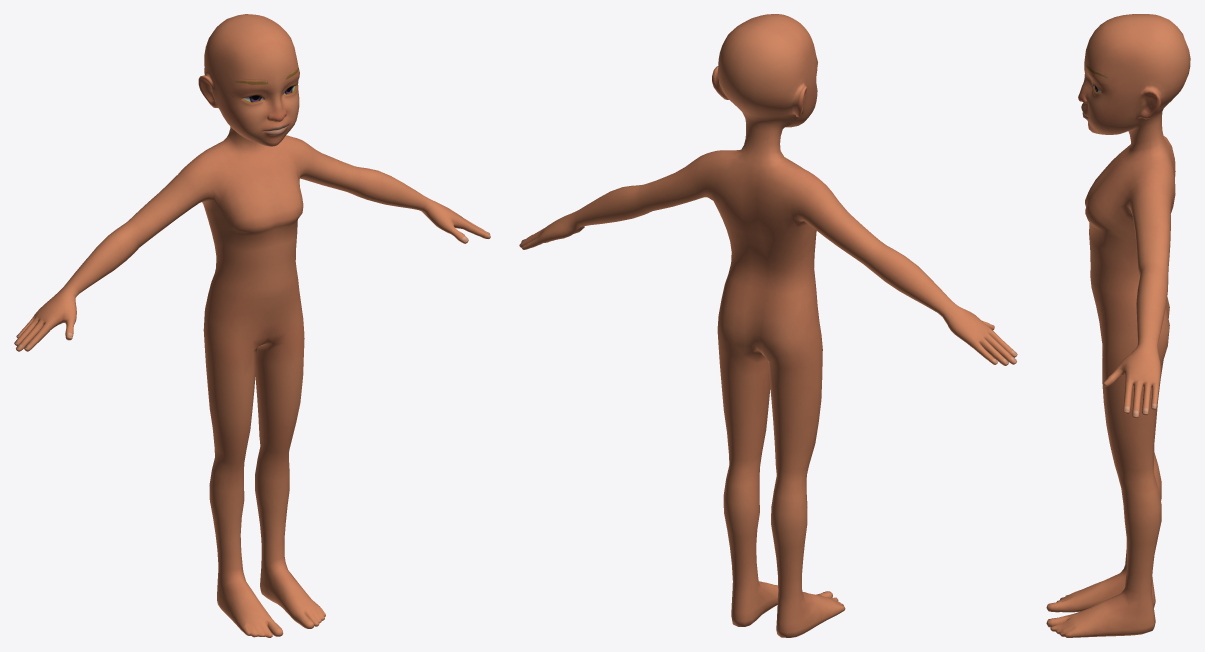
File: frame_0085.glb
The picture shows the model from 3 angles, left to right: view 1: azimuth 30°, elevation 25°; view 2: azimuth 150°, elevation 25°; view 3: azimuth 270°, elevation 25°; orthographic projection. The views are drawn at different scales.
Parts seen in each view (by area): view 1: frame_0085_head_geo; view 2: frame_0085_head_geo; view 3: frame_0085_head_geo.
Part boxes in pixels (bbox=[...]): frame_0085_head_geo: bbox=[14, 14, 490, 637]; frame_0085_head_geo: bbox=[519, 14, 1017, 637]; frame_0085_head_geo: bbox=[1046, 14, 1190, 637].
Bounding box in the file's own units: 1.28 × 1.5 × 0.3253.
3 materials, 3 textured.
